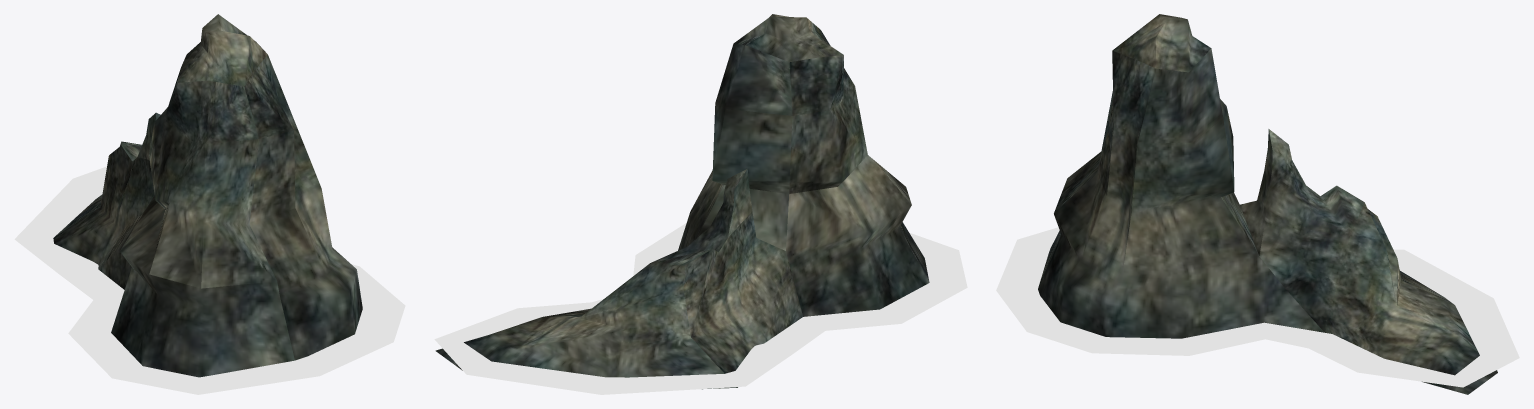
The model's file is pir_m_prp_ocn_rock_a.fbx.
3 renders of one model, left to right at view 1: azimuth 30°, elevation 25°; view 2: azimuth 150°, elevation 25°; view 3: azimuth 270°, elevation 25°, orthographic. The views are drawn at different scales.
Parts seen in each view (by area): view 1: rock, wave; view 2: rock, wave; view 3: rock, wave.
Boxes of the visible parts, x1=… form: rock: x1=53, y1=14, x2=362, y2=377; wave: x1=14, y1=166, x2=405, y2=394; rock: x1=435, y1=14, x2=929, y2=389; wave: x1=434, y1=223, x2=967, y2=394; rock: x1=1038, y1=14, x2=1497, y2=394; wave: x1=996, y1=227, x2=1519, y2=387.
Size of the model in its own units: 4079 by 3137 by 5318.
2 materials, 2 textured.
